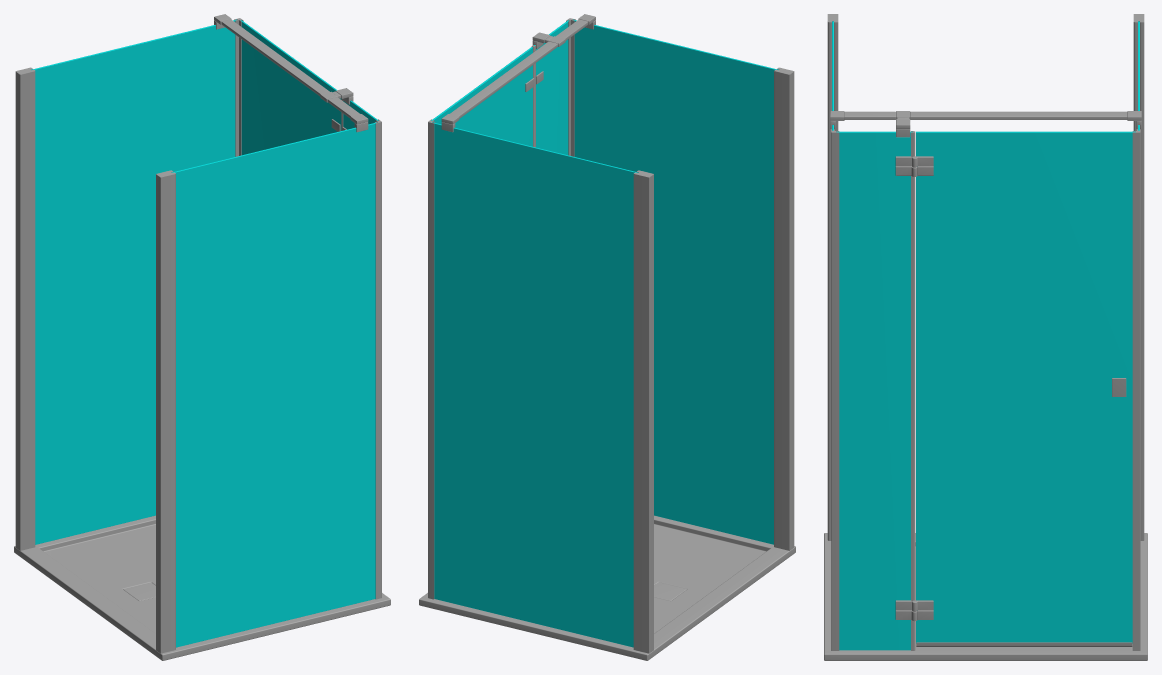
The model's file is ShowerRoom_L.fbx.
The picture shows the model from 3 angles, left to right: view 1: azimuth 30°, elevation 25°; view 2: azimuth 150°, elevation 25°; view 3: azimuth 270°, elevation 25°; orthographic projection. The views are drawn at different scales.
Parts seen in each view (by area): view 1: polySurface11, polySurface10, polySurface29, polySurface21, polySurface26, polySurface7, polySurface6, polySurface25, polySurface18, polySurface40; view 2: polySurface10, polySurface11, polySurface29, polySurface26, polySurface21, polySurface7, polySurface12, polySurface18, polySurface25, polySurface6, polySurface40; view 3: polySurface7, polySurface12, polySurface29, polySurface6, polySurface18, polySurface21, polySurface26, polySurface22, polySurface25, polySurface38, polySurface40.
Boxes of the visible parts, bbox=[...] form: polySurface11: bbox=[171, 122, 376, 647]; polySurface10: bbox=[31, 19, 236, 544]; polySurface29: bbox=[14, 515, 390, 660]; polySurface21: bbox=[15, 67, 35, 550]; polySurface26: bbox=[156, 170, 175, 653]; polySurface7: bbox=[241, 20, 341, 155]; polySurface6: bbox=[374, 119, 381, 599]; polySurface25: bbox=[221, 19, 329, 96]; polySurface18: bbox=[234, 18, 243, 156]; polySurface40: bbox=[320, 88, 368, 132]; polySurface10: bbox=[432, 122, 638, 647]; polySurface11: bbox=[573, 19, 778, 544]; polySurface29: bbox=[419, 515, 795, 660]; polySurface26: bbox=[774, 67, 794, 550]; polySurface21: bbox=[633, 170, 653, 653]; polySurface7: bbox=[431, 47, 532, 146]; polySurface12: bbox=[534, 20, 568, 155]; polySurface18: bbox=[428, 119, 435, 599]; polySurface25: bbox=[450, 41, 558, 118]; polySurface6: bbox=[566, 18, 575, 156]; polySurface40: bbox=[532, 14, 595, 48]; polySurface7: bbox=[916, 131, 1135, 643]; polySurface12: bbox=[836, 131, 912, 650]; polySurface29: bbox=[824, 533, 1147, 660]; polySurface6: bbox=[831, 129, 839, 650]; polySurface18: bbox=[1132, 129, 1140, 650]; polySurface21: bbox=[1133, 14, 1144, 540]; polySurface26: bbox=[827, 14, 838, 540]; polySurface22: bbox=[911, 131, 915, 650]; polySurface25: bbox=[910, 111, 1127, 119]; polySurface38: bbox=[916, 642, 1132, 646]; polySurface40: bbox=[830, 111, 910, 137].
Size of the model in its own units: 86.4 by 177 by 97.2.
